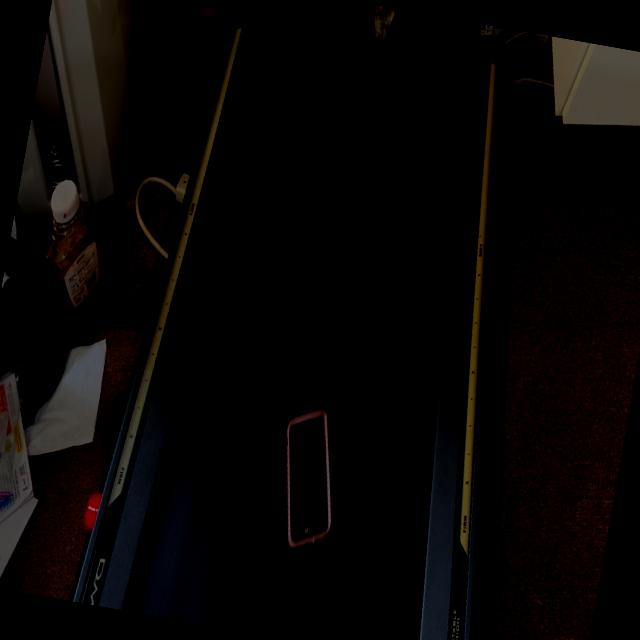Trash: (258, 392, 384, 560)
